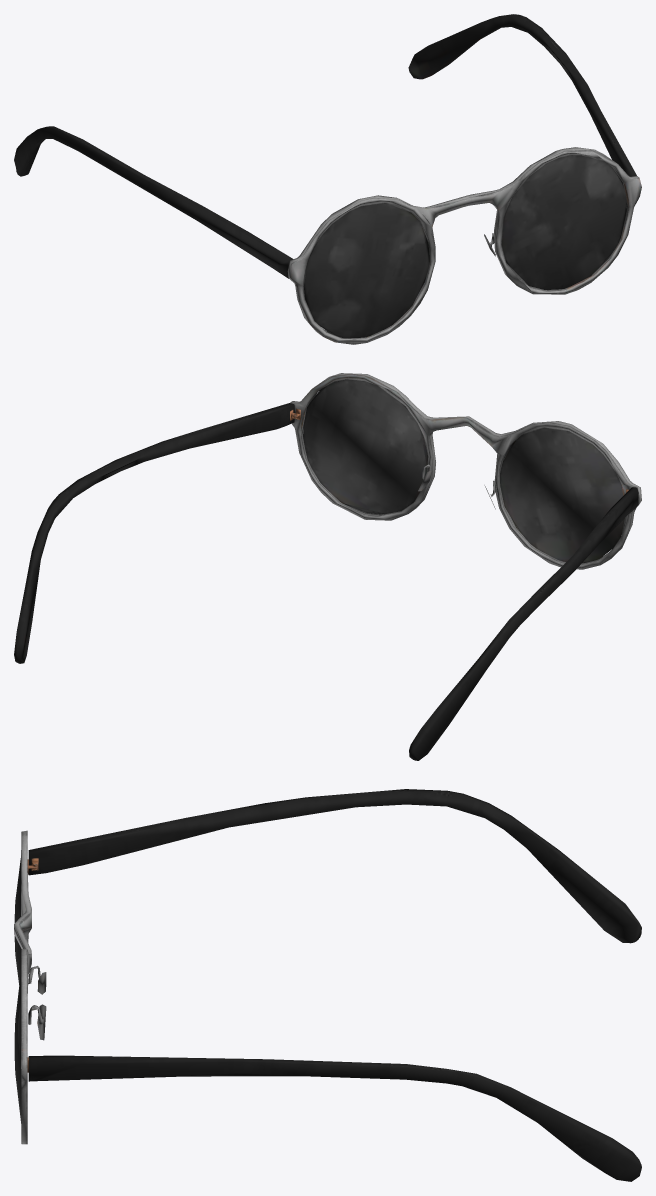
Rendered from round_spectacles.glb.
3 views of the same model, one above another, from view 1: azimuth 30°, elevation 25°; view 2: azimuth 150°, elevation 25°; view 3: azimuth 270°, elevation 25° (orthographic). The views are drawn at different scales.
Visible parts, largest first — view 1: round_spectacles; view 2: round_spectacles; view 3: round_spectacles.
Part boxes in pixels (<box>): round_spectacles: <box>14,14,641,344</box>; round_spectacles: <box>14,373,641,760</box>; round_spectacles: <box>14,789,641,1181</box>.
Size of the model in its own units: 0.1574 by 0.0463 by 0.1488.
Materials: 2 (2 with a texture image).
